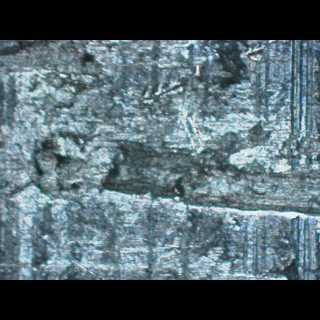d: (25, 116, 320, 227)
